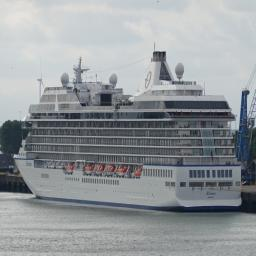cruises: (13, 51, 243, 216)
